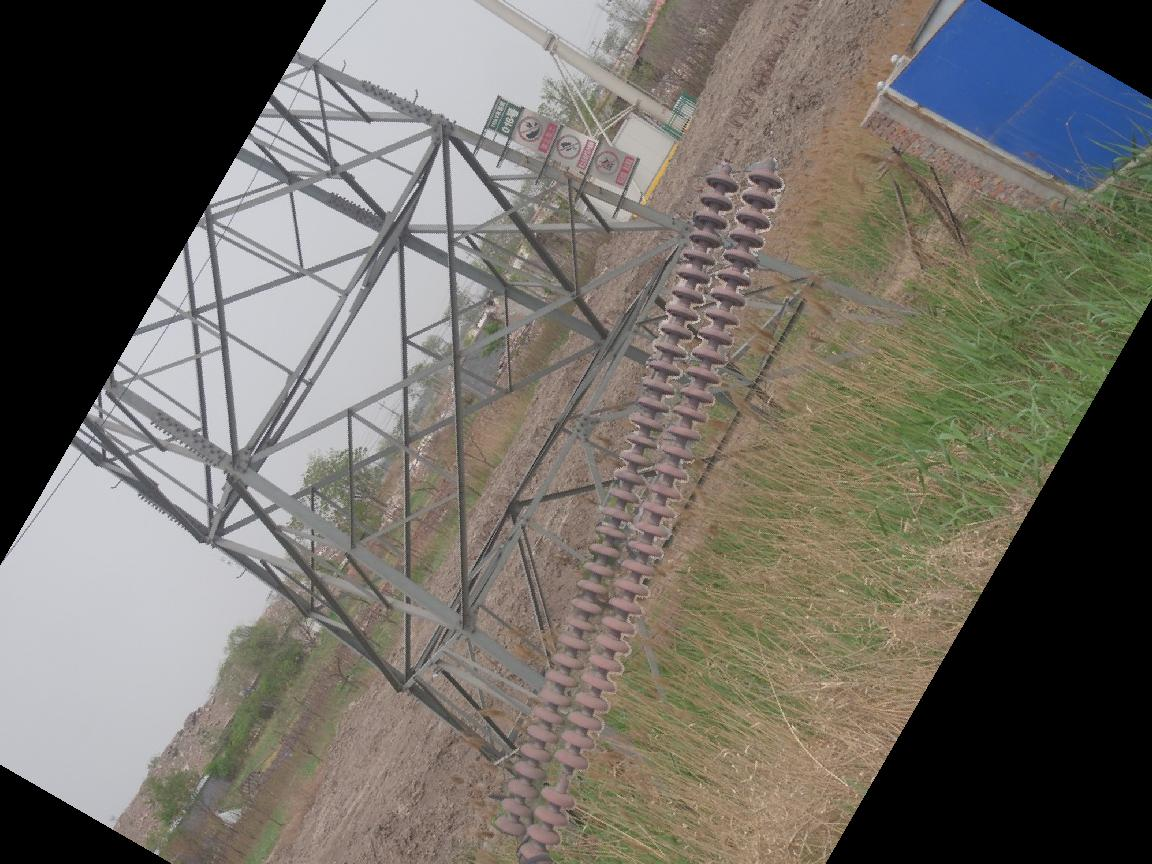insulator: (484, 158, 789, 864)
insulator_stringdrop: (536, 746, 594, 813)
